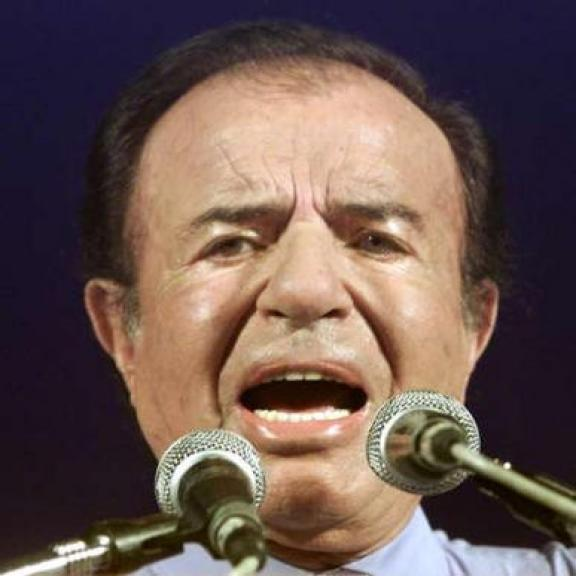face: (78, 70, 504, 526)
